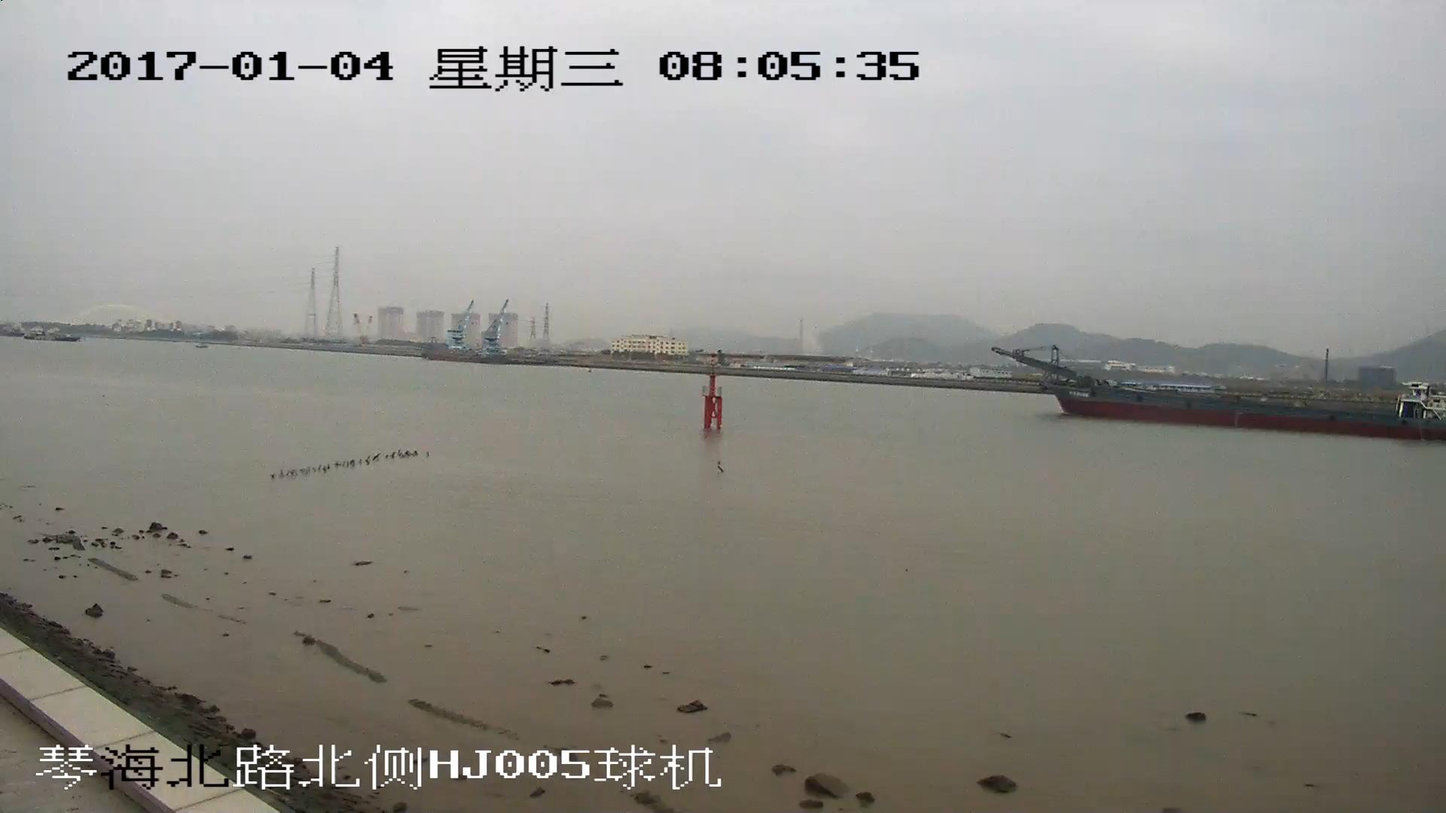bulk cargo carrier: (993, 344, 1445, 440)
